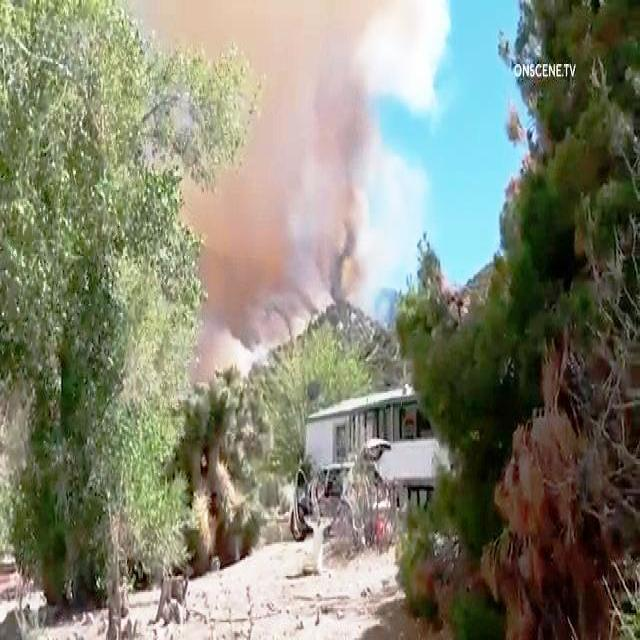Smoke: (205, 0, 393, 306)
